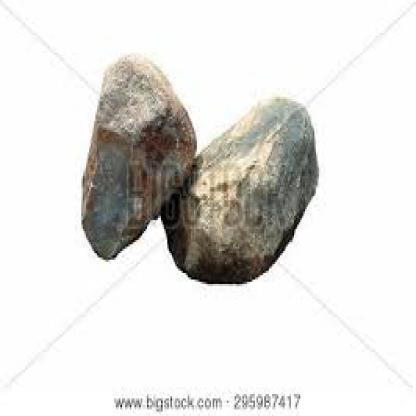Igneous_Diorite: (164, 90, 330, 286), (73, 35, 191, 266)
